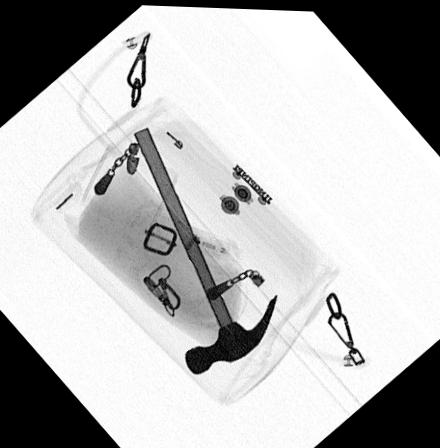Hammer: (134, 124, 278, 373)
